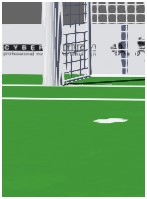Goal: (23, 11, 139, 97)
